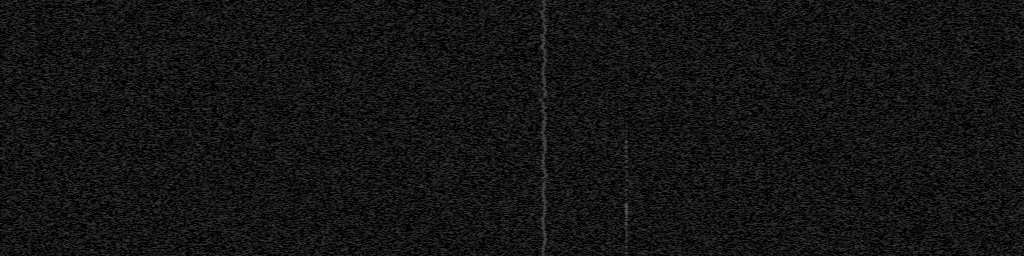wv_lsb: (506, 114, 511, 145), (507, 146, 510, 151)
wv_usb: (624, 111, 629, 256), (624, 82, 629, 105), (624, 15, 629, 38), (625, 44, 628, 61), (624, 63, 628, 70), (625, 73, 628, 81), (625, 7, 628, 14), (624, 106, 629, 110), (625, 2, 628, 6)
wv_wbfm: (538, 0, 550, 256)
